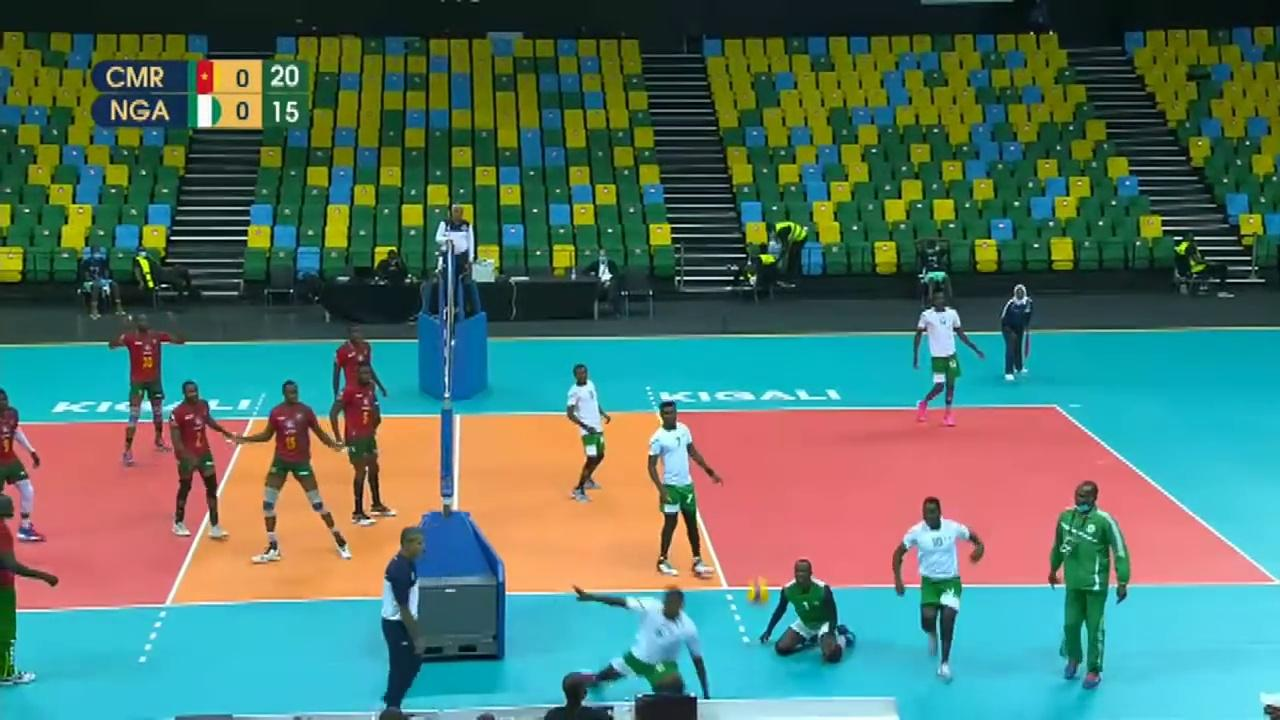player: (556, 582, 711, 720), (246, 377, 353, 568), (890, 500, 984, 679), (647, 399, 728, 577), (164, 382, 235, 535), (757, 555, 860, 660), (334, 365, 396, 526), (910, 291, 984, 423), (113, 306, 175, 450), (0, 386, 49, 540), (334, 317, 381, 468), (563, 367, 610, 500)
refree: (374, 525, 426, 718), (426, 199, 489, 315), (1000, 282, 1036, 380)
